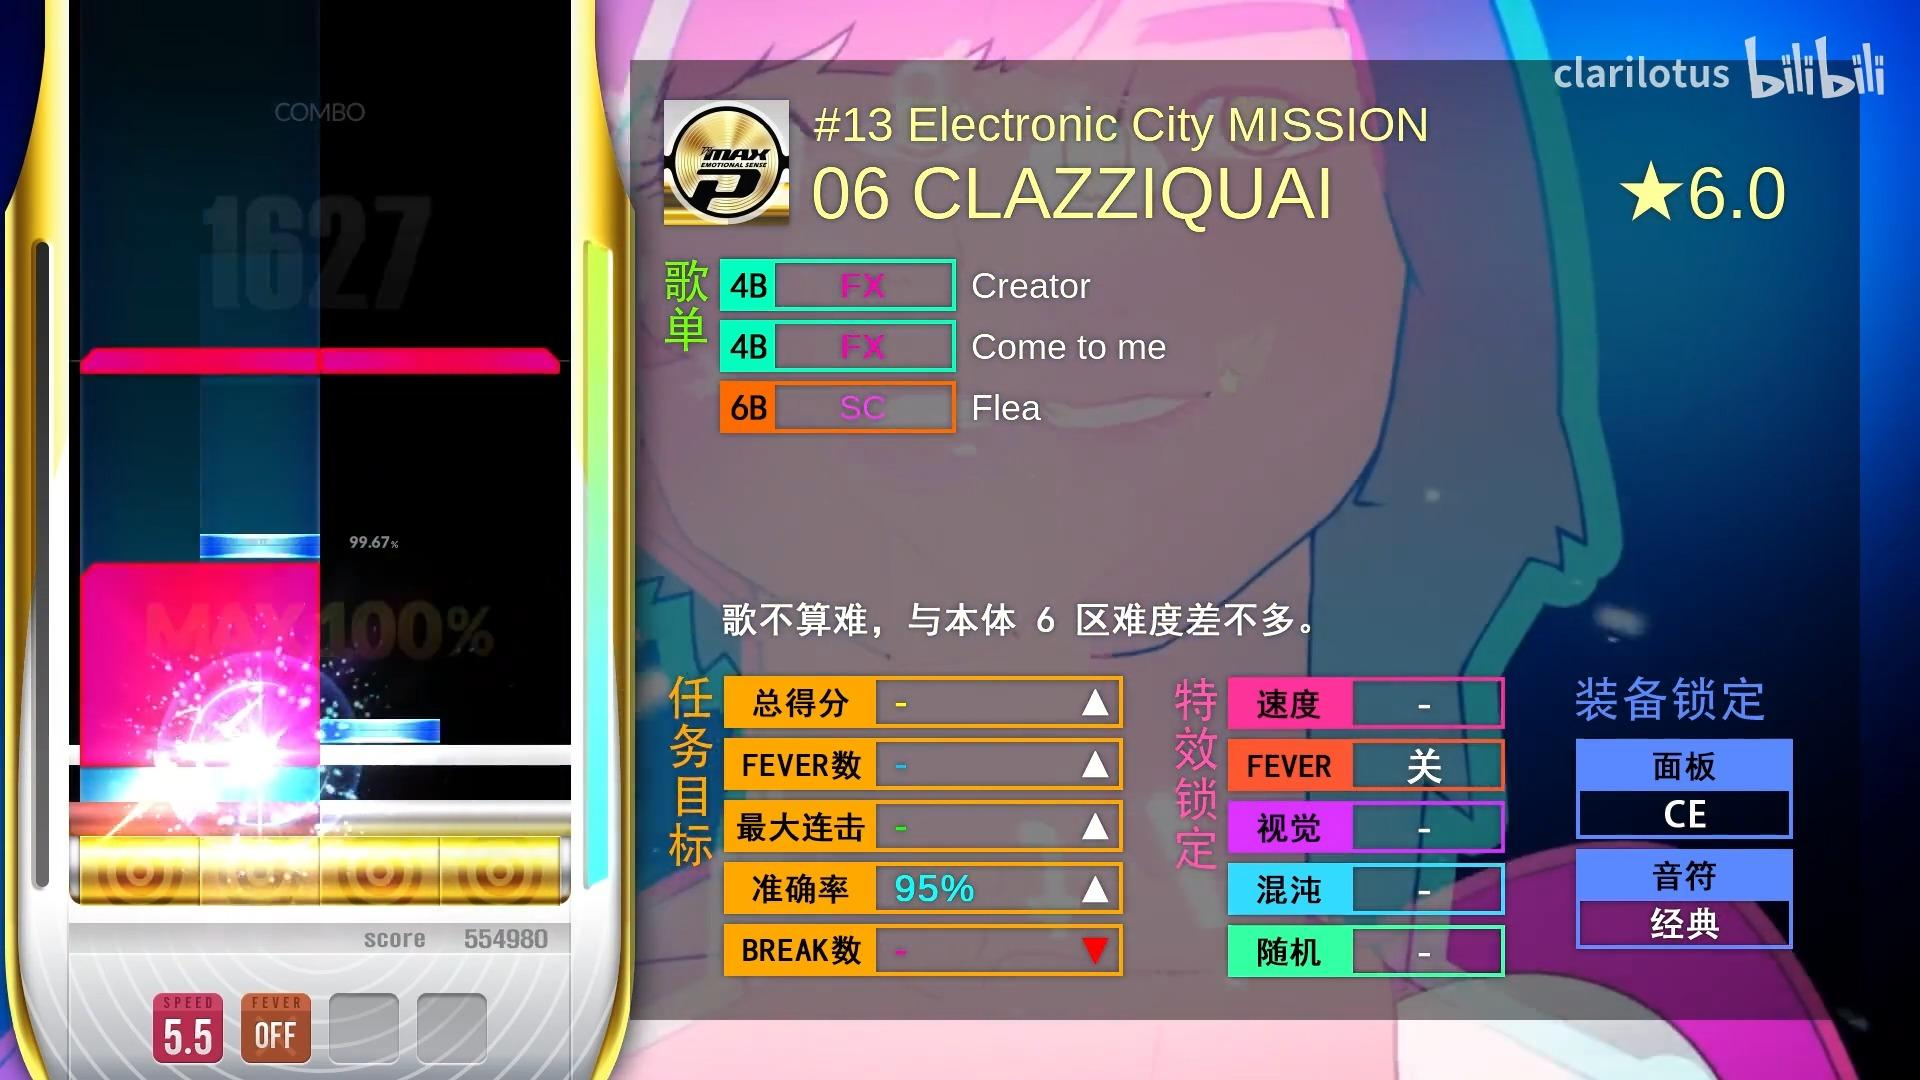note: (319, 717, 440, 745), (200, 533, 320, 559)
xend: (80, 562, 319, 589)
xnote: (80, 347, 320, 375), (320, 348, 560, 373)
